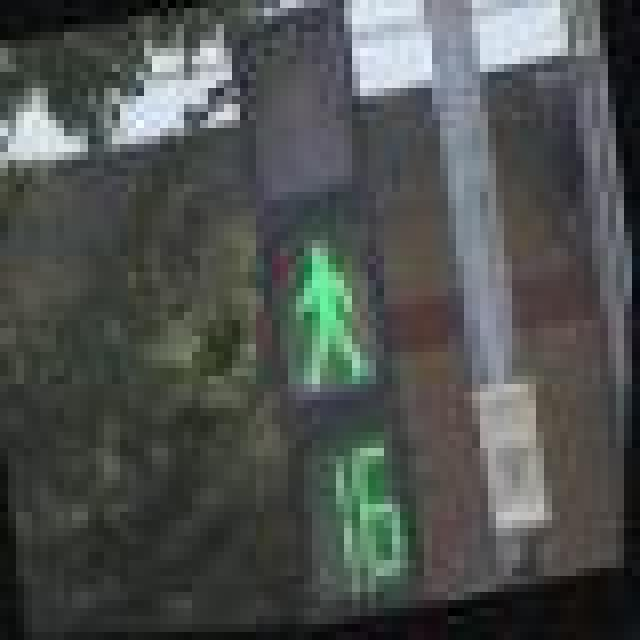greenlight: (240, 16, 400, 408)
